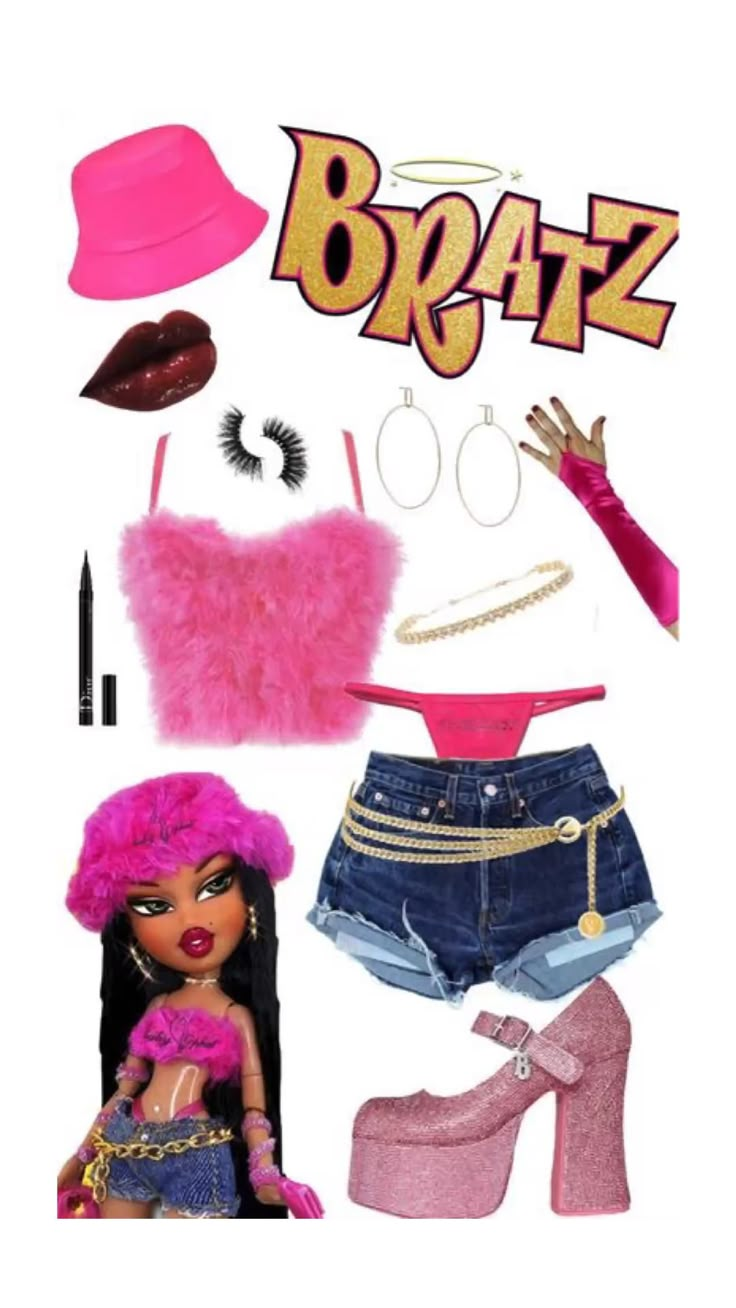Imprimante: (359, 452, 565, 959)
